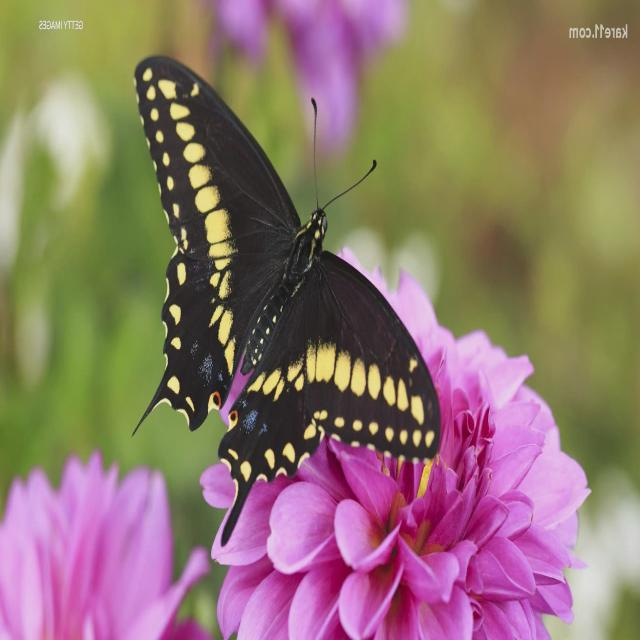butterfly: (133, 56, 441, 545)
